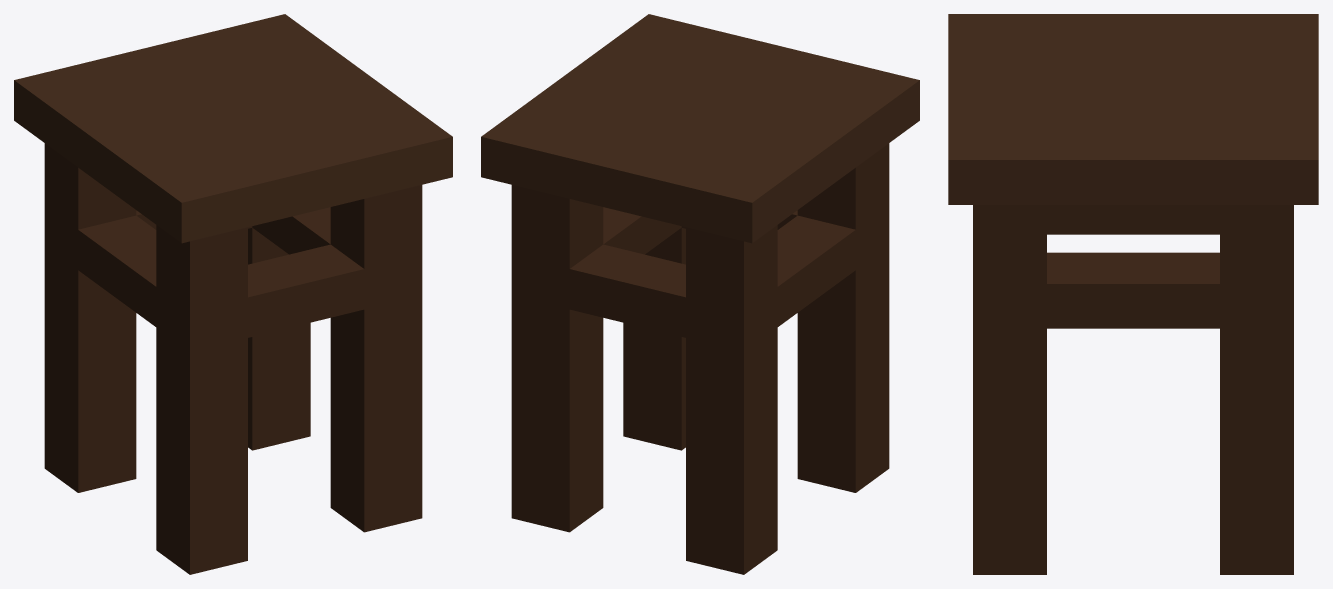
The model's file is taboret.dae.
3 views of the same model, side by side, from view 1: azimuth 30°, elevation 25°; view 2: azimuth 150°, elevation 25°; view 3: azimuth 270°, elevation 25° (orthographic). The views are drawn at different scales.
Visible parts, largest first — view 1: Content; view 2: Content; view 3: Content.
Part boxes in pixels (<box>): Content: <box>14,14,452,574</box>; Content: <box>481,14,919,574</box>; Content: <box>948,14,1318,574</box>.
Size of the model in its own units: 14 by 19 by 15.
1 material, 1 textured.
